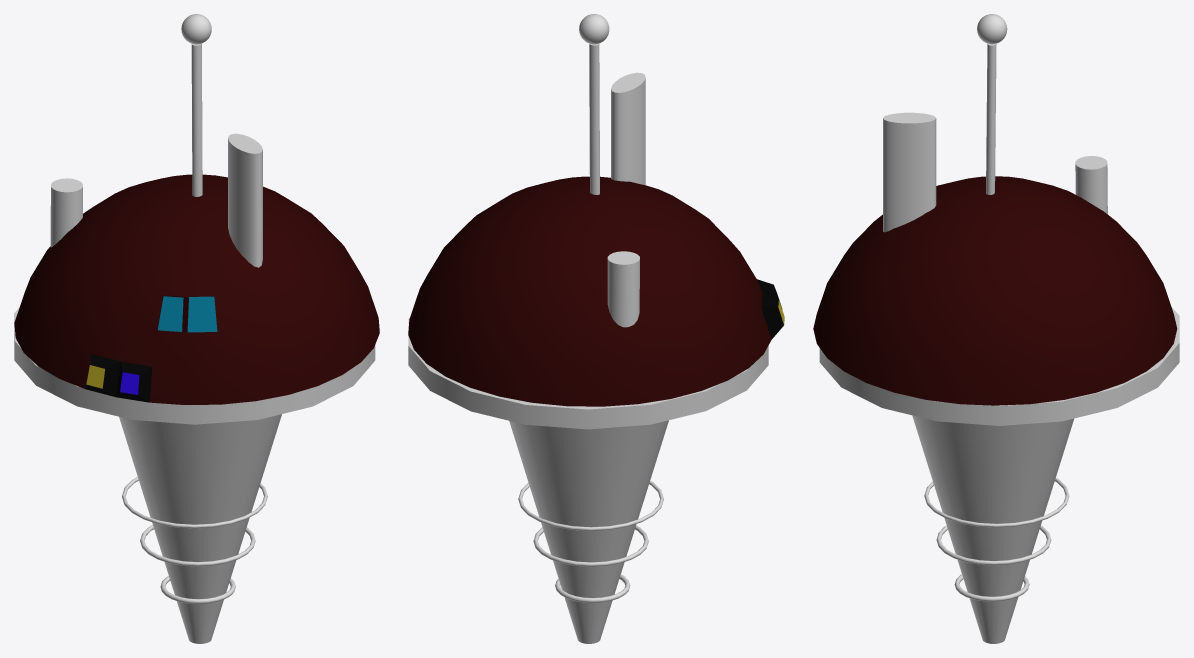
The model's file is SpaceFederalStation.FBX.
The picture shows the model from 3 angles, left to right: view 1: azimuth 30°, elevation 25°; view 2: azimuth 150°, elevation 25°; view 3: azimuth 270°, elevation 25°; orthographic projection.
Parts seen in each view (by area): view 1: Sphere001, Cone001, Cylinder001, Cylinder002, Cylinder003, Cylinder004, Torus001, Torus004, Sphere002, Torus005; view 2: Sphere001, Cone001, Cylinder001, Cylinder002, Cylinder003, Cylinder004, Torus001, Torus004, Sphere002, Torus005; view 3: Sphere001, Cone001, Cylinder001, Cylinder002, Cylinder003, Cylinder004, Torus001, Torus004, Sphere002, Torus005.
Boxes of the visible parts, x1,y1,x2,y2 form: Sphere001: [14, 174, 379, 404]; Cone001: [119, 414, 281, 643]; Cylinder001: [14, 307, 375, 424]; Cylinder002: [228, 133, 262, 267]; Cylinder003: [50, 178, 82, 247]; Cylinder004: [191, 43, 202, 196]; Torus001: [122, 477, 267, 528]; Torus004: [140, 525, 255, 566]; Sphere002: [181, 14, 211, 44]; Torus005: [160, 576, 235, 604]; Sphere001: [408, 176, 784, 406]; Cone001: [509, 420, 668, 643]; Cylinder001: [408, 317, 768, 429]; Cylinder002: [611, 72, 645, 185]; Cylinder003: [607, 251, 639, 327]; Cylinder004: [589, 43, 599, 194]; Torus001: [518, 480, 663, 530]; Torus004: [533, 525, 648, 566]; Sphere002: [579, 14, 609, 44]; Torus005: [555, 574, 630, 602]; Sphere001: [813, 176, 1177, 405]; Cone001: [912, 415, 1073, 643]; Cylinder001: [819, 307, 1179, 425]; Cylinder002: [883, 112, 936, 232]; Cylinder003: [1075, 156, 1107, 214]; Cylinder004: [986, 43, 996, 194]; Torus001: [924, 478, 1069, 527]; Torus004: [936, 525, 1051, 565]; Sphere002: [977, 14, 1007, 44]; Torus005: [954, 574, 1029, 601].
Bounding box in the file's own units: 40.56 × 76.37 × 40.8.
